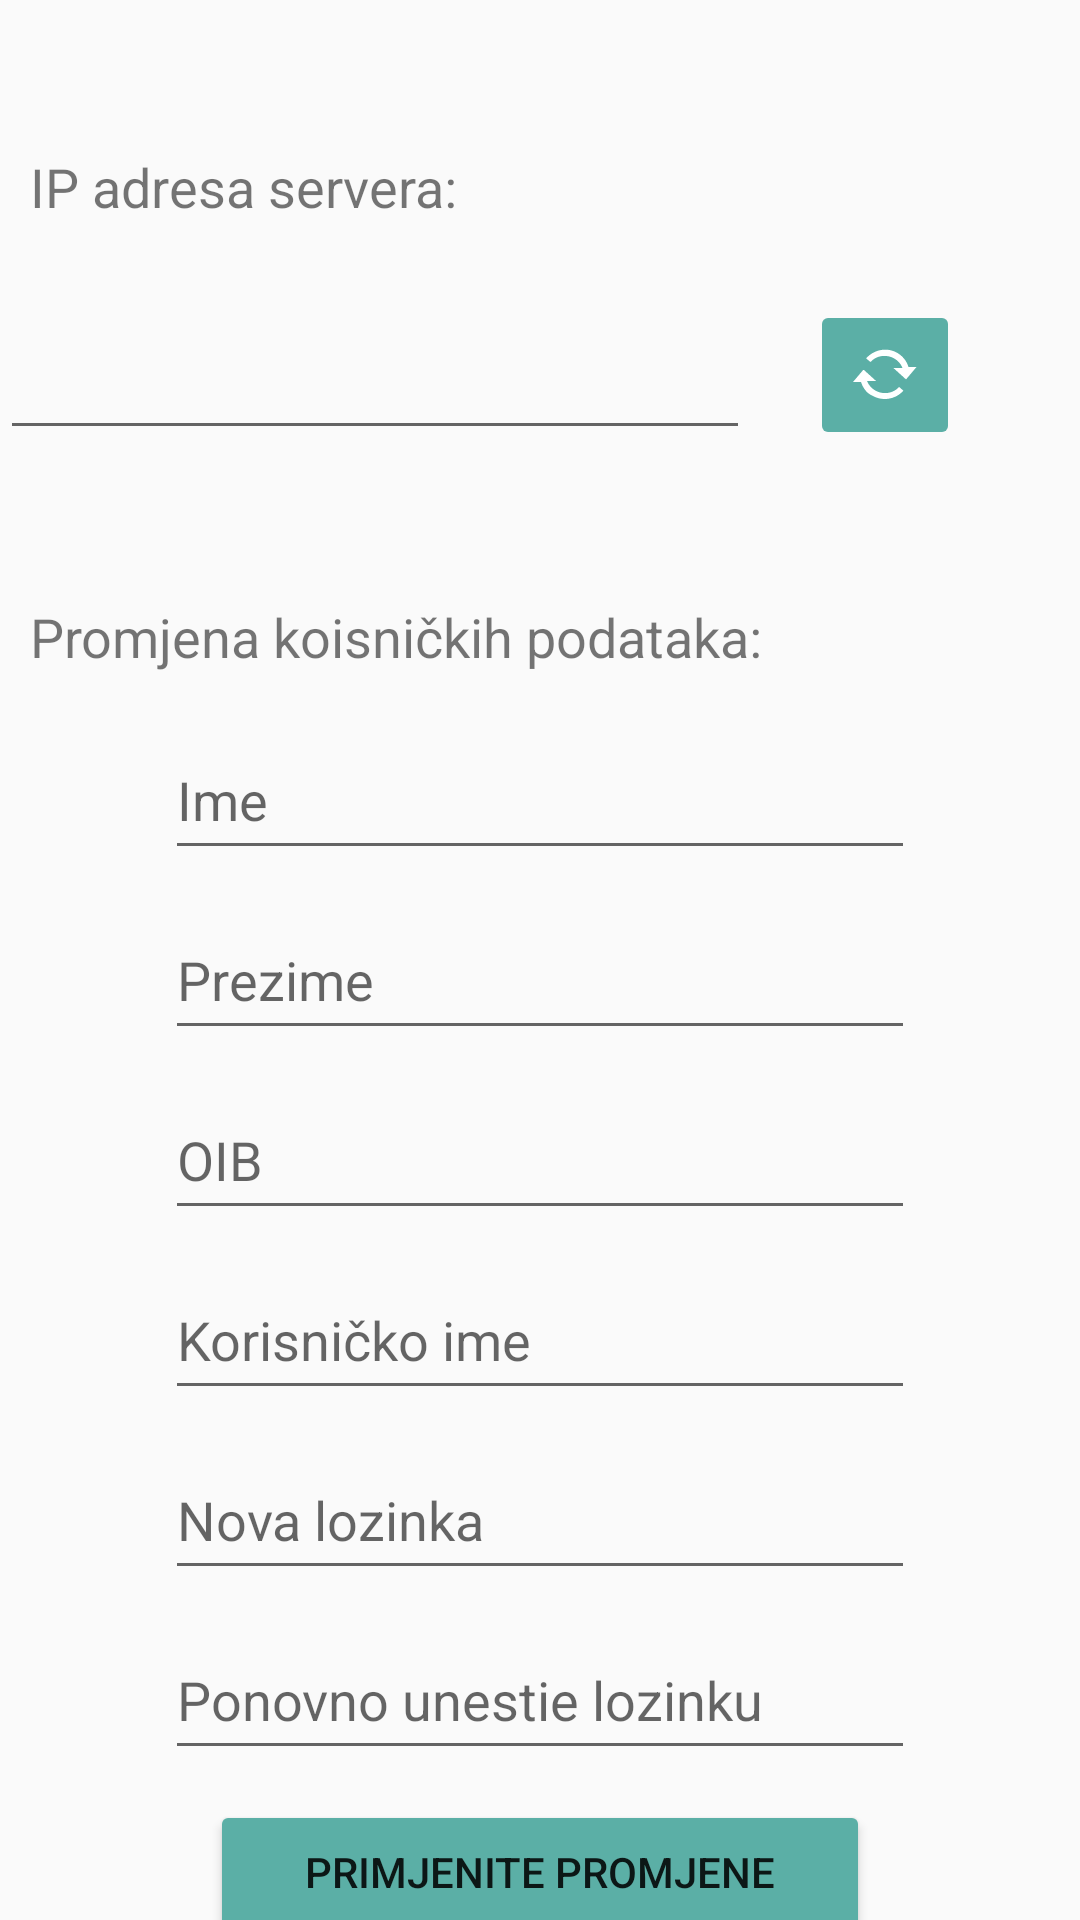

Icons on this 1080x1920 Android screen, each with the point to tap as (x,y):
sync: (885,375)
